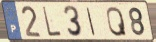2: (21, 5, 42, 38)
3: (63, 5, 84, 39)
8: (128, 6, 147, 37)
I: (85, 6, 97, 37)
L: (42, 5, 63, 38)
Q: (106, 5, 129, 38)
